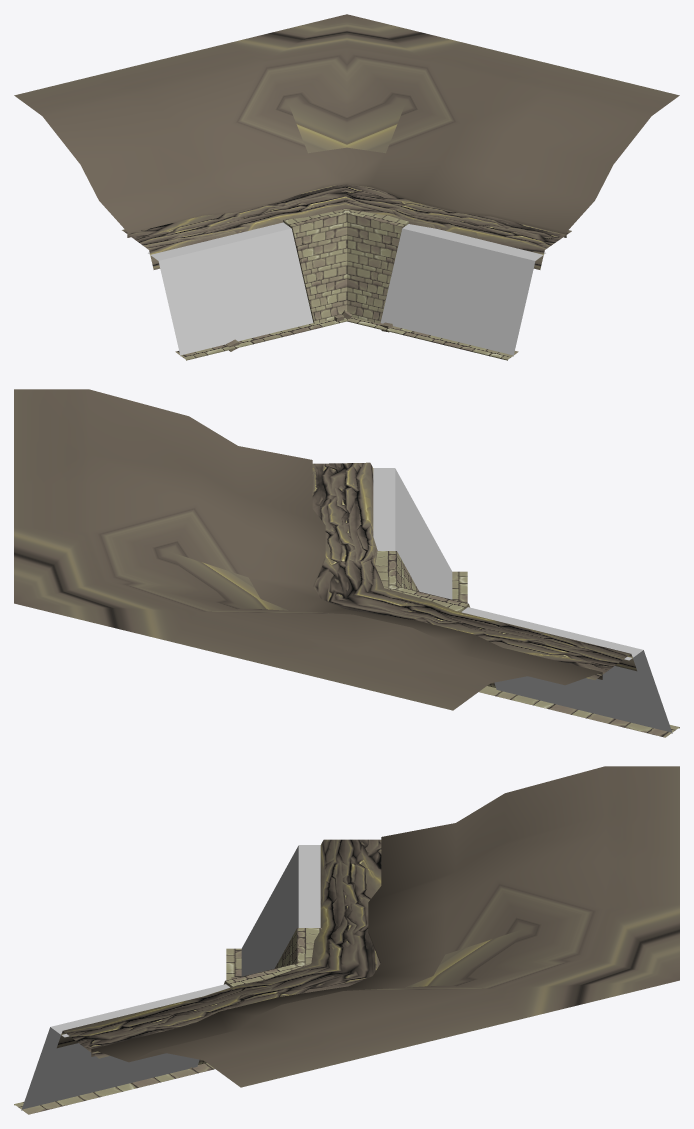
Rendered from Wall_LevelEdge_Inner_01.FBX.
The picture shows the model from 3 angles, top to bottom: view 1: azimuth 30°, elevation 25°; view 2: azimuth 150°, elevation 25°; view 3: azimuth 270°, elevation 25°; orthographic projection. The views are drawn at different scales.
Visible parts, largest first — view 1: Wall_LevelEdge_Inner_01; view 2: Wall_LevelEdge_Inner_01; view 3: Wall_LevelEdge_Inner_01.
Boxes of the visible parts, <box> form: Wall_LevelEdge_Inner_01: <box>14,14,679,360</box>; Wall_LevelEdge_Inner_01: <box>14,389,679,737</box>; Wall_LevelEdge_Inner_01: <box>14,766,679,1114</box>.
Bounding box in the file's own units: 26.25 × 7.21 × 22.98.
